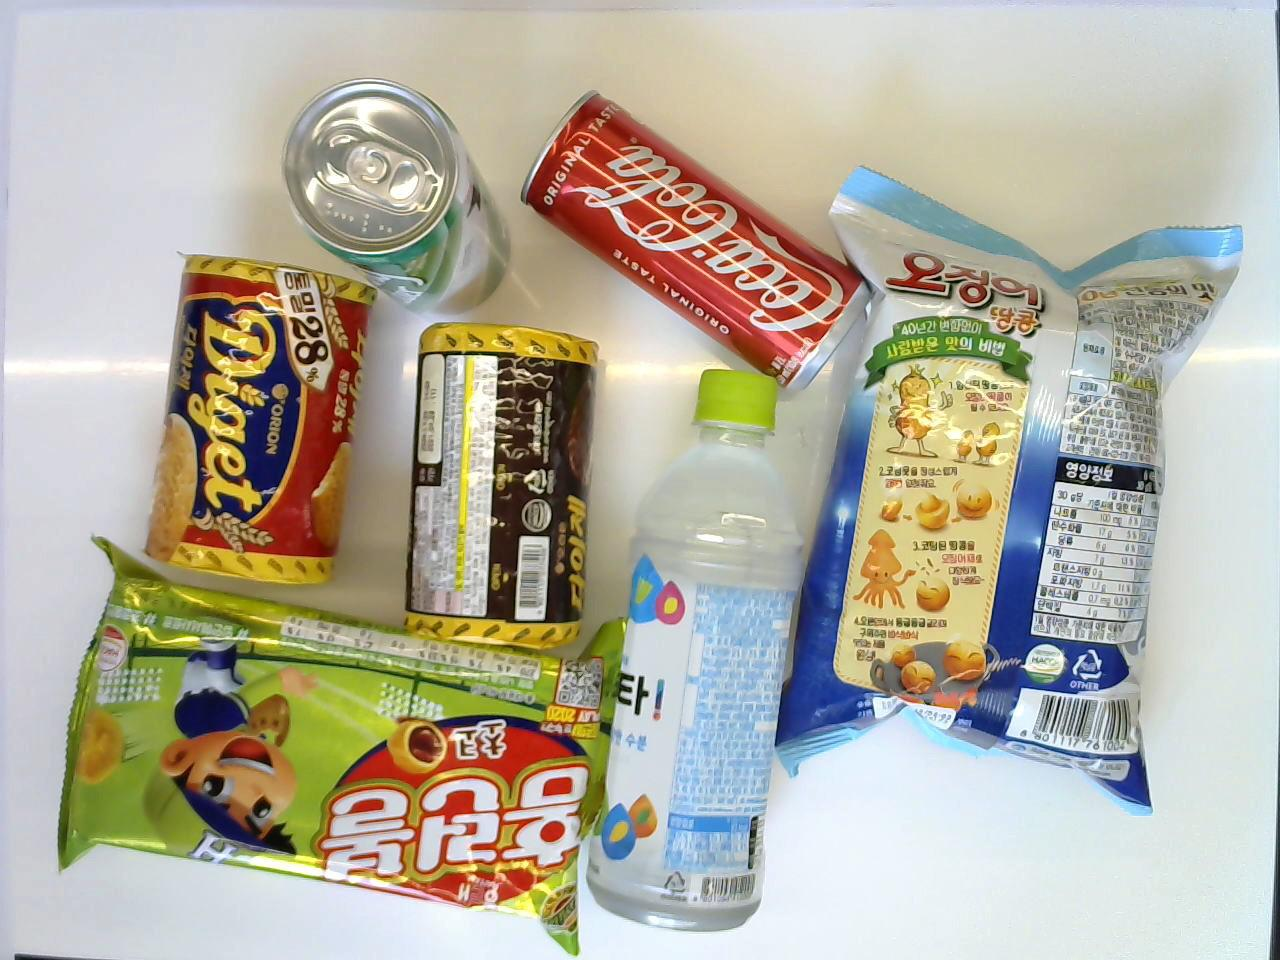cidar: (272, 74, 512, 322)
coke: (523, 82, 870, 402)
diget_choco: (400, 320, 594, 654)
diget_ori: (141, 250, 366, 594)
homerunball: (51, 549, 635, 951)
squid_peanut: (775, 150, 1249, 813)
toreta: (592, 357, 806, 940)
